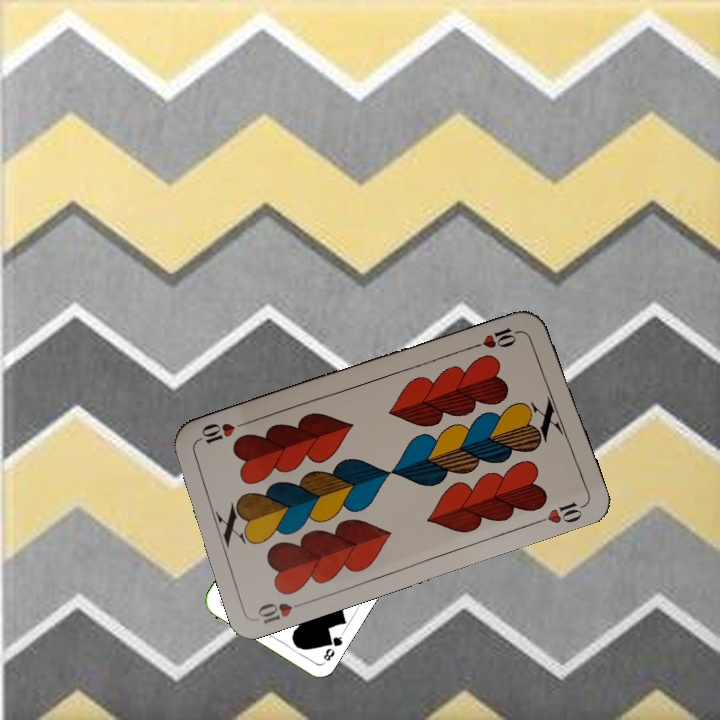G8: (319, 630, 346, 664)
H10: (253, 597, 311, 627), (468, 323, 526, 351)
